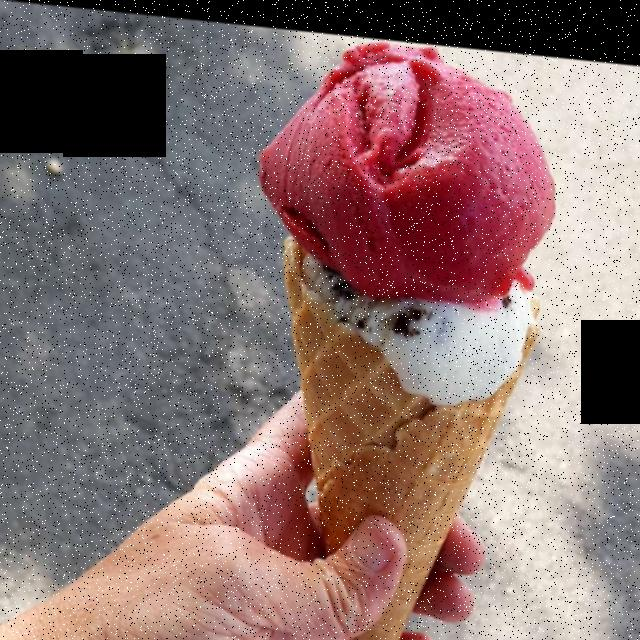dairy-ice-cream: (290, 240, 530, 394)
sorbet: (247, 38, 537, 287)
